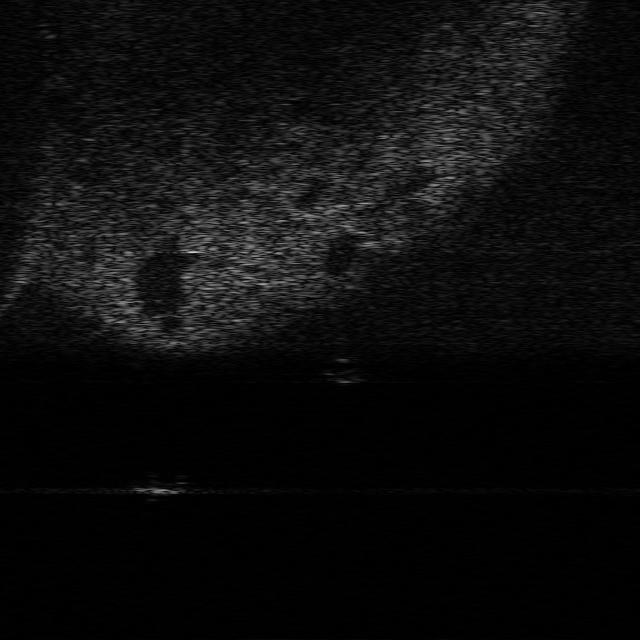ball: (321, 356, 370, 387)
cube: (135, 470, 189, 498)
